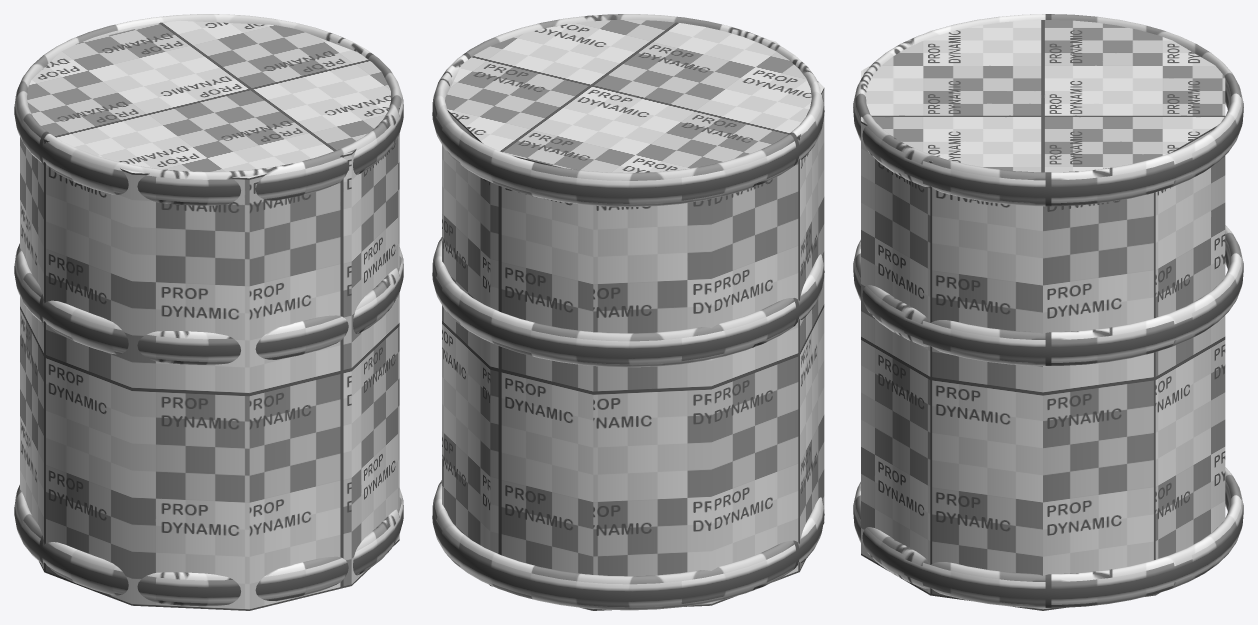
Rendered from Barrel(blockade).fbx.
3 views of the same model, side by side, from view 1: azimuth 30°, elevation 25°; view 2: azimuth 150°, elevation 25°; view 3: azimuth 270°, elevation 25° (orthographic).
Visible parts, largest first — view 1: Barrel_blockade_, Torus, Torus__2_, Torus__1_; view 2: Barrel_blockade_, Torus, Torus__2_, Torus__1_; view 3: Barrel_blockade_, Torus, Torus__1_, Torus__2_.
Boxes of the visible parts, left/top/right/bottom form: Barrel_blockade_: left=20, top=20, right=399, bottom=610; Torus: left=14, top=14, right=403, bottom=205; Torus__2_: left=14, top=485, right=403, bottom=606; Torus__1_: left=14, top=243, right=403, bottom=364; Barrel_blockade_: left=442, top=20, right=824, bottom=610; Torus: left=432, top=14, right=824, bottom=206; Torus__2_: left=432, top=480, right=824, bottom=610; Torus__1_: left=432, top=237, right=824, bottom=367; Barrel_blockade_: left=861, top=20, right=1225, bottom=610; Torus: left=853, top=14, right=1243, bottom=206; Torus__1_: left=853, top=225, right=1243, bottom=365; Torus__2_: left=853, top=467, right=1243, bottom=607.
Size of the model in its own units: 99.9 by 124 by 99.95.
